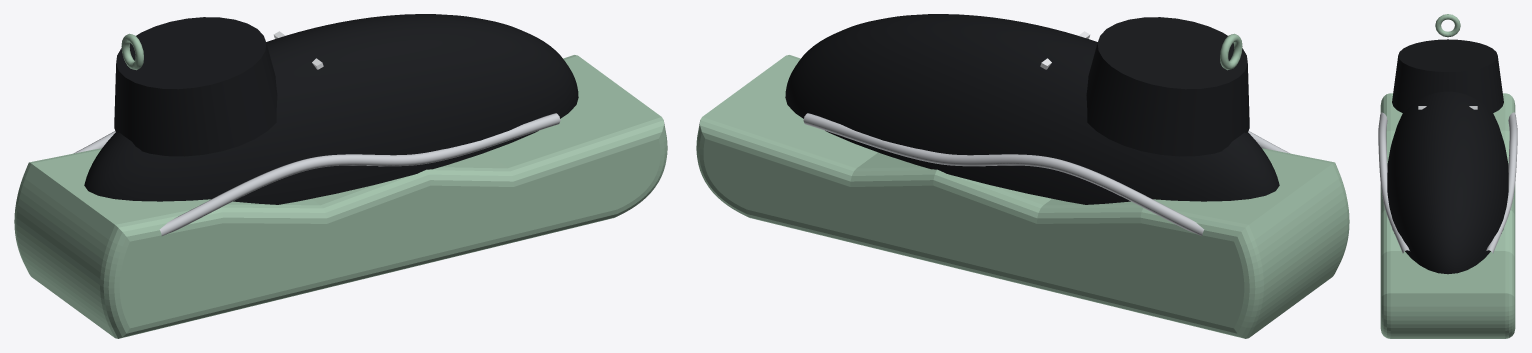
The picture shows the model from 3 angles, left to right: view 1: azimuth 30°, elevation 25°; view 2: azimuth 150°, elevation 25°; view 3: azimuth 270°, elevation 25°; orthographic projection. The views are drawn at different scales.
Bounding box in the file's own units: 2.73 × 1.19 × 0.8518.
